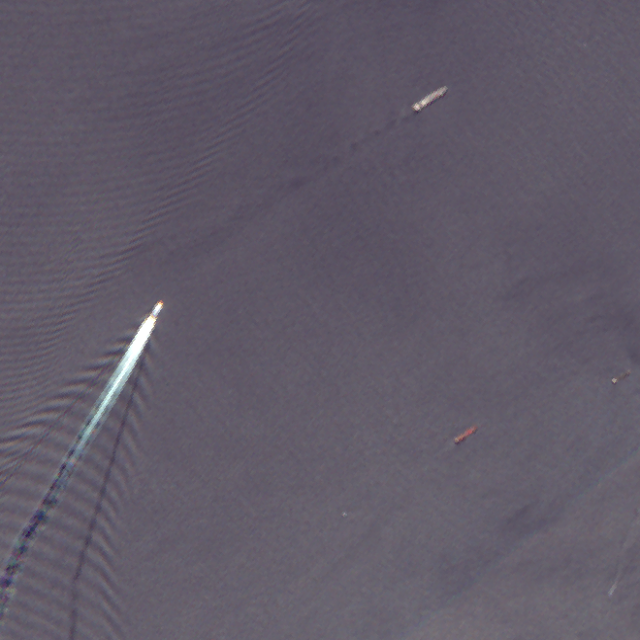wake: (4, 252, 232, 509)
